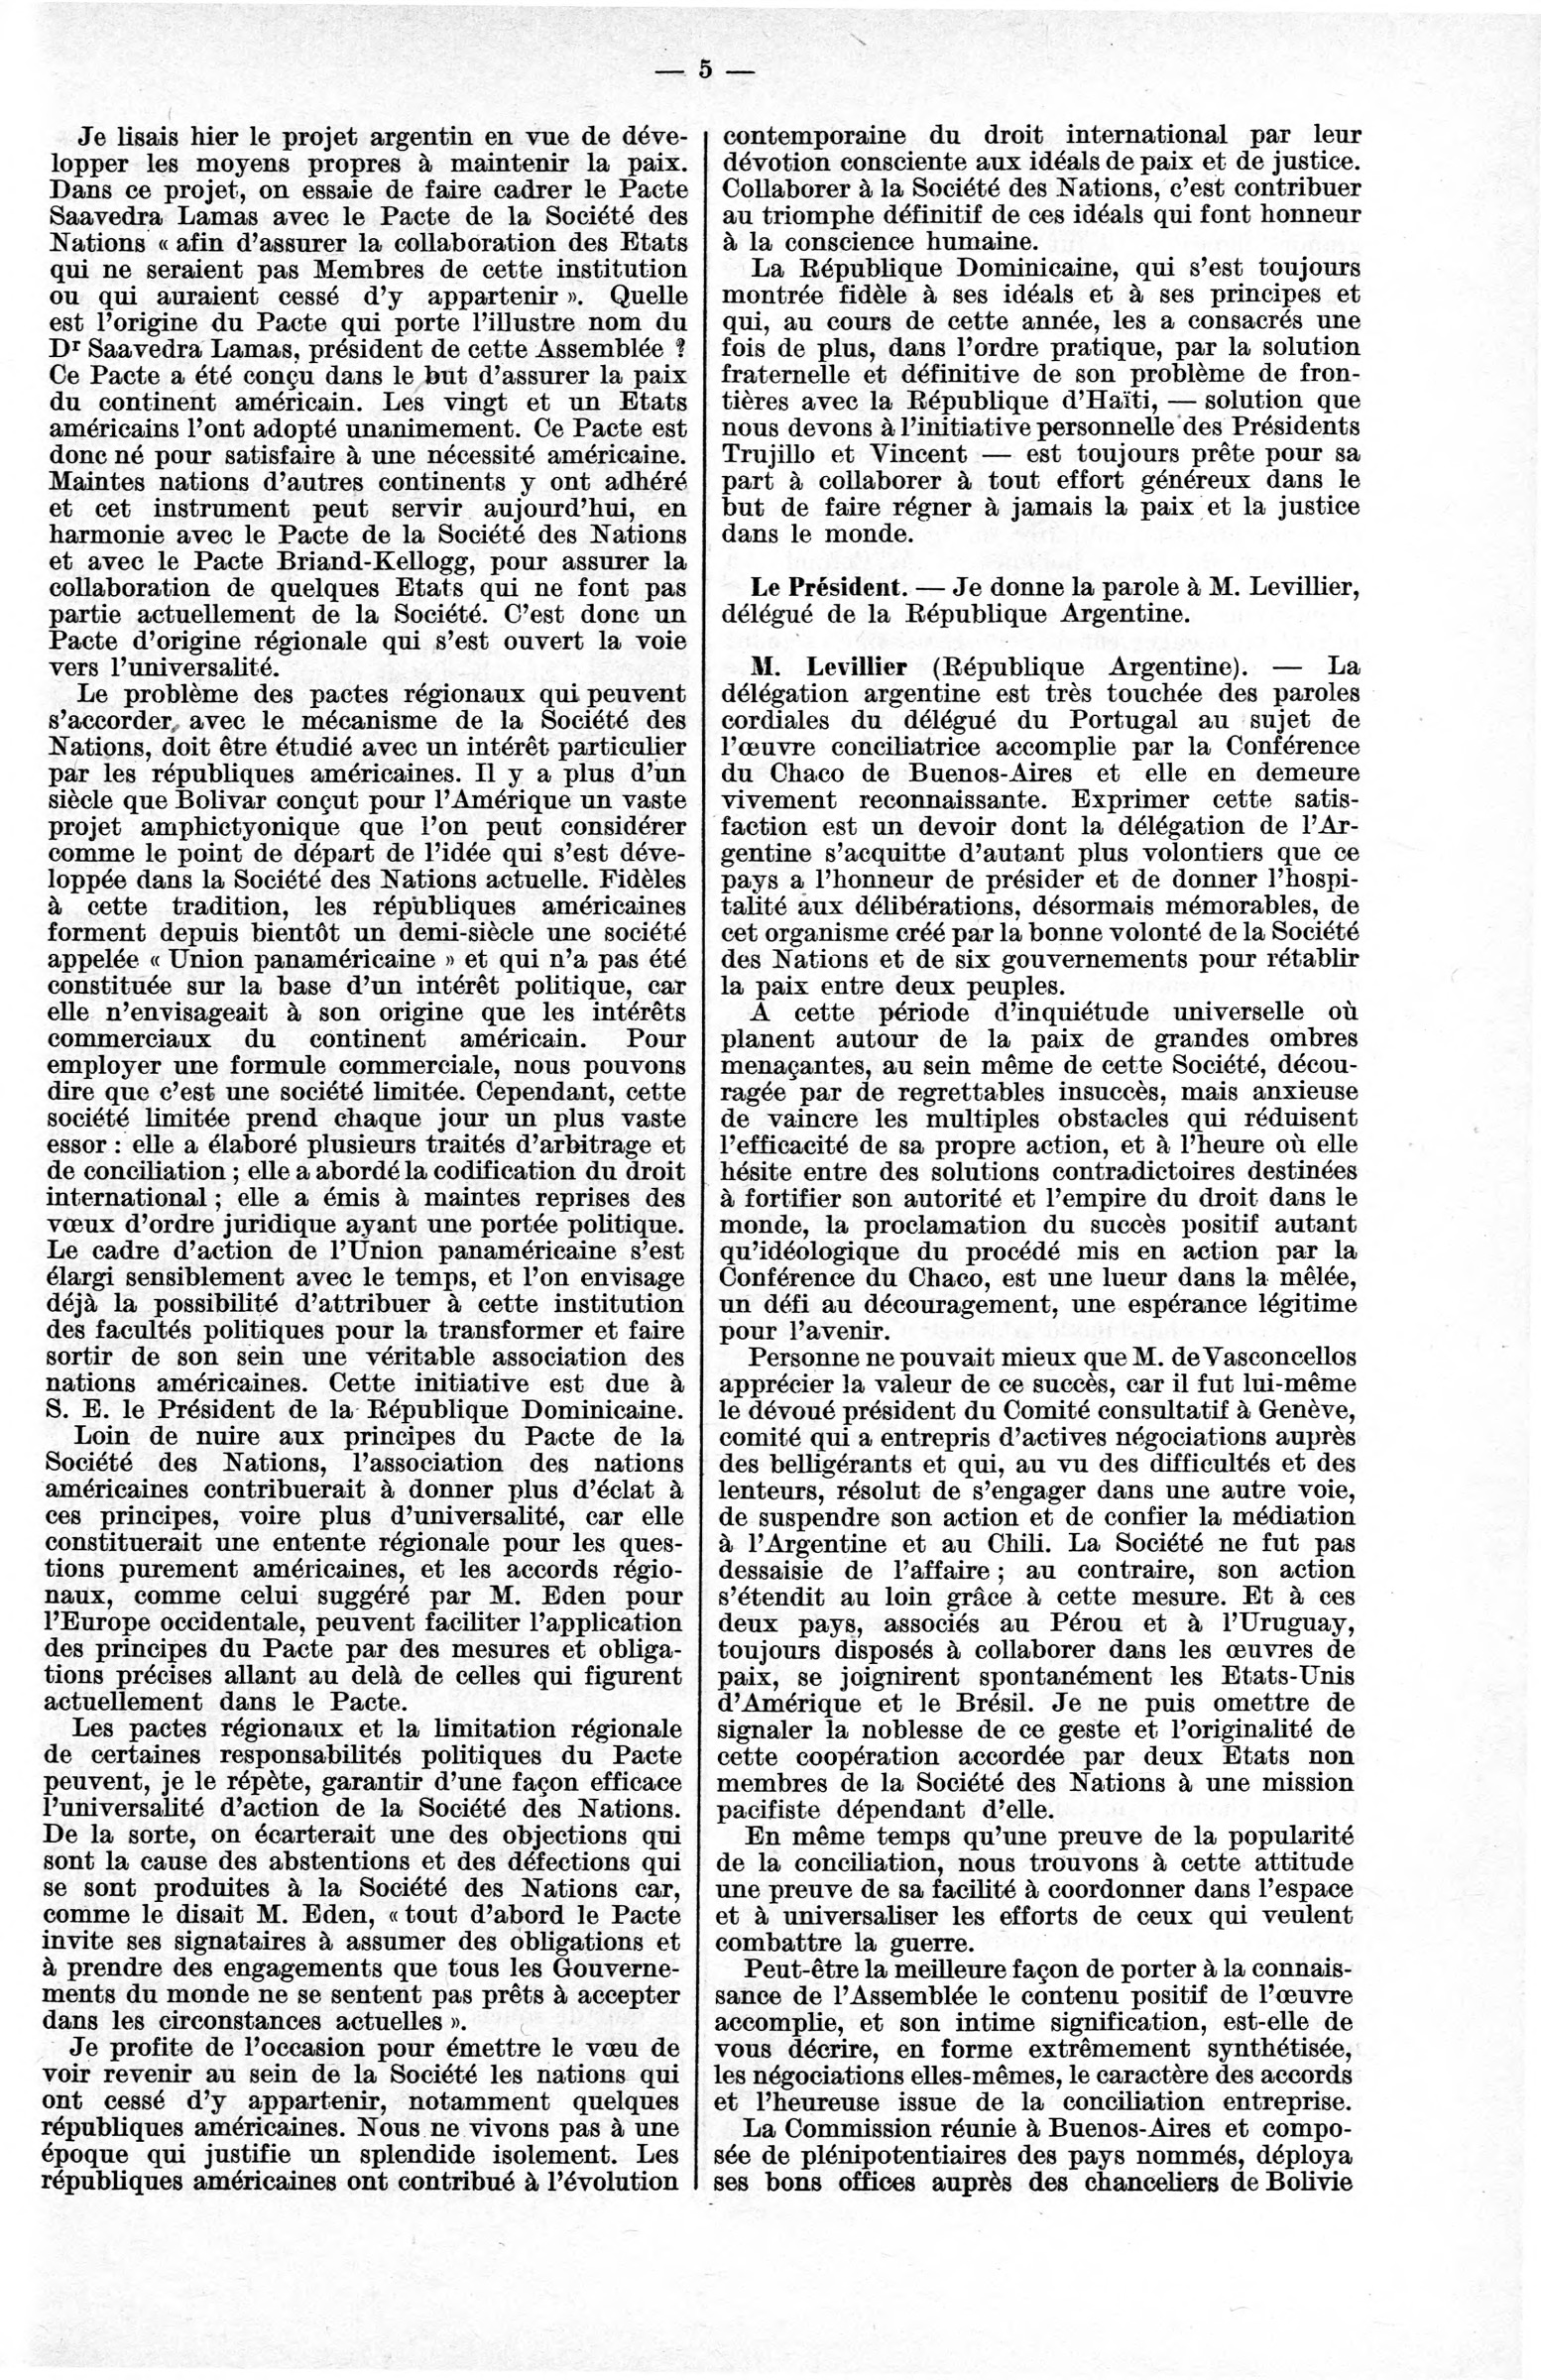MainZone-Continued: (717, 120, 1371, 253)
MainZone-P: (42, 680, 692, 1710), (42, 116, 694, 678), (713, 1343, 1366, 1821), (715, 647, 1373, 1001), (713, 999, 1366, 1344), (35, 1714, 689, 2035), (715, 253, 1369, 553), (35, 2033, 687, 2201), (710, 1955, 1366, 2115), (710, 1823, 1362, 1955), (708, 2115, 1362, 2201), (715, 566, 1367, 633)
TitlePageZone: (646, 52, 765, 92)
